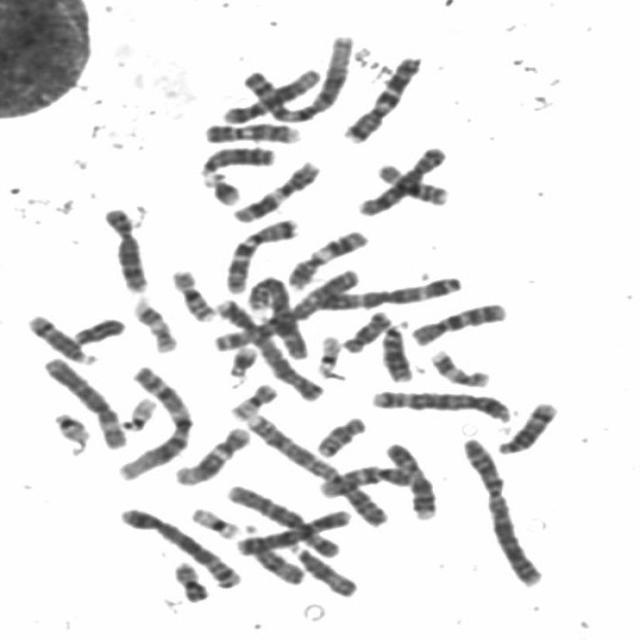A1: (218, 28, 359, 126), (111, 360, 196, 481)
A2: (239, 408, 393, 529), (457, 430, 547, 588)
A3: (206, 261, 366, 354), (308, 268, 466, 310)
B4: (208, 290, 326, 402), (240, 268, 310, 362)
B5: (113, 500, 246, 590), (365, 381, 516, 423)
C10: (404, 295, 512, 347), (312, 459, 415, 499)
C11: (227, 153, 325, 224), (281, 223, 371, 290)
C12: (218, 61, 324, 126), (168, 421, 253, 486)
C6: (220, 478, 344, 560), (37, 350, 130, 450)
C7: (336, 49, 424, 145), (220, 210, 305, 295)
C8: (352, 139, 450, 217), (96, 200, 152, 295)
C9: (380, 436, 442, 520), (198, 117, 304, 146)
D13: (194, 139, 278, 178), (376, 313, 417, 383)
D14: (21, 307, 100, 366), (492, 395, 562, 456)
D15: (284, 537, 360, 598), (244, 540, 307, 585)
E16: (374, 156, 454, 207), (165, 263, 220, 323)
E17: (127, 291, 181, 354), (425, 342, 495, 389)
E18: (337, 304, 395, 354), (310, 410, 370, 458)
F19: (184, 500, 243, 540), (311, 327, 346, 378)
F20: (222, 376, 281, 421), (166, 554, 213, 603)
G21: (199, 166, 245, 207), (222, 339, 262, 378)
G22: (114, 390, 161, 432), (46, 406, 94, 444)
X: (352, 139, 450, 217), (230, 503, 354, 557)
Y: (66, 310, 128, 346)
